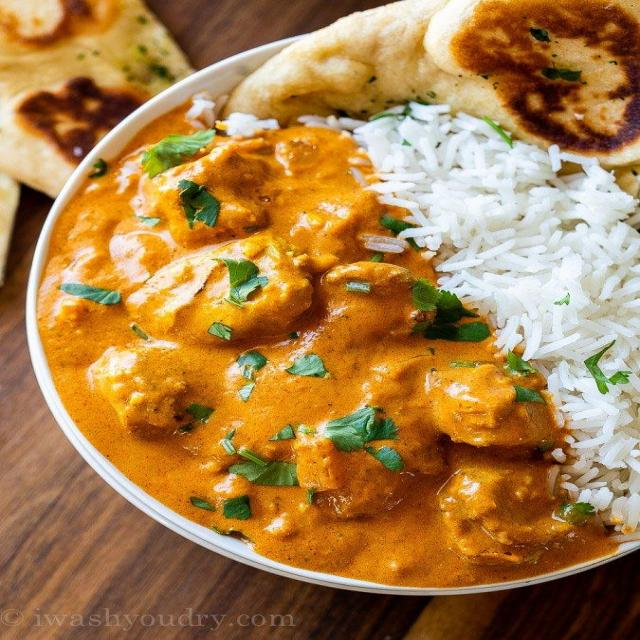chicken: (57, 133, 486, 578)
rice: (346, 104, 628, 531)
roti: (279, 6, 640, 138), (5, 10, 156, 215)
